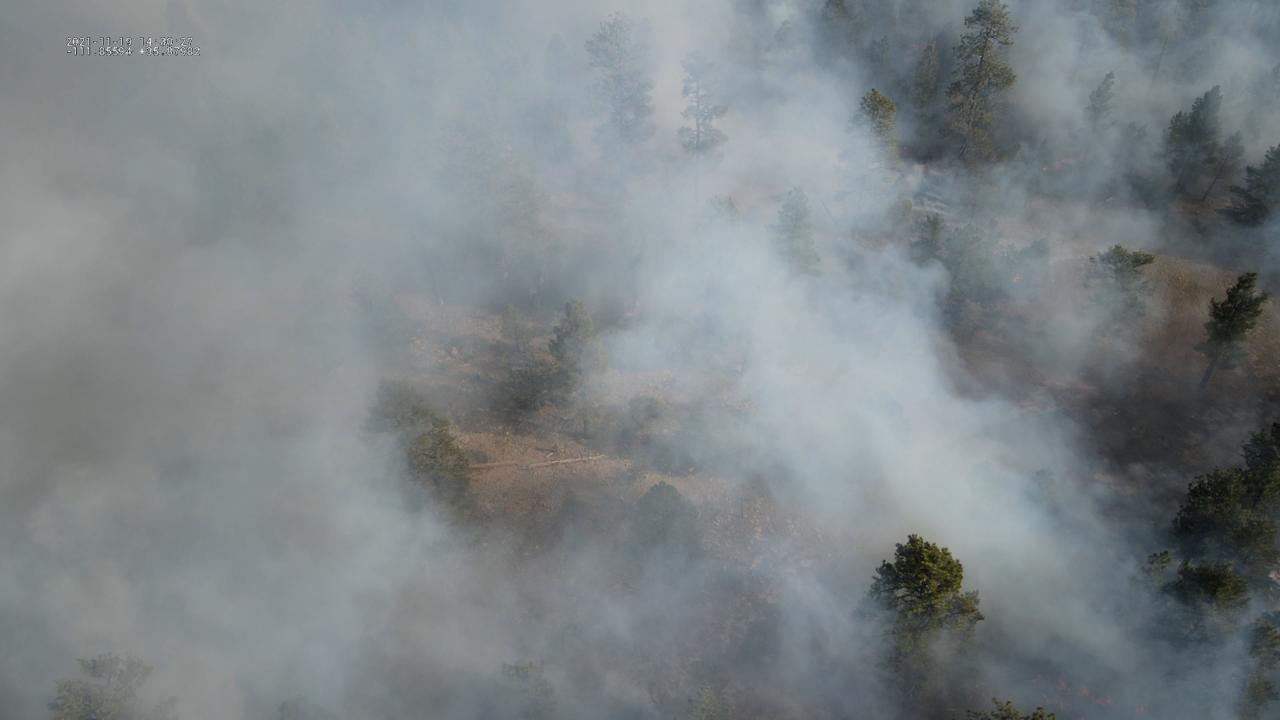fire: (1010, 274, 1022, 283), (1041, 167, 1049, 173)
smoke: (0, 0, 1280, 720)
